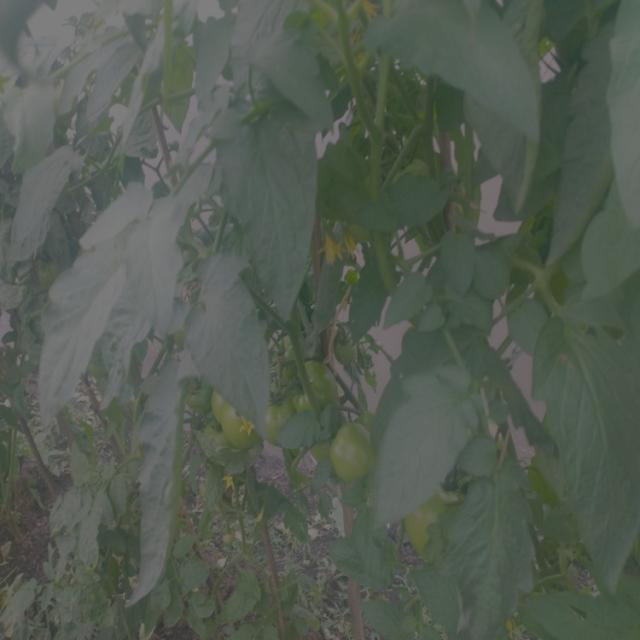tomato: (209, 389, 256, 450), (331, 421, 378, 481), (408, 495, 455, 548), (296, 368, 340, 408), (267, 388, 289, 442)
